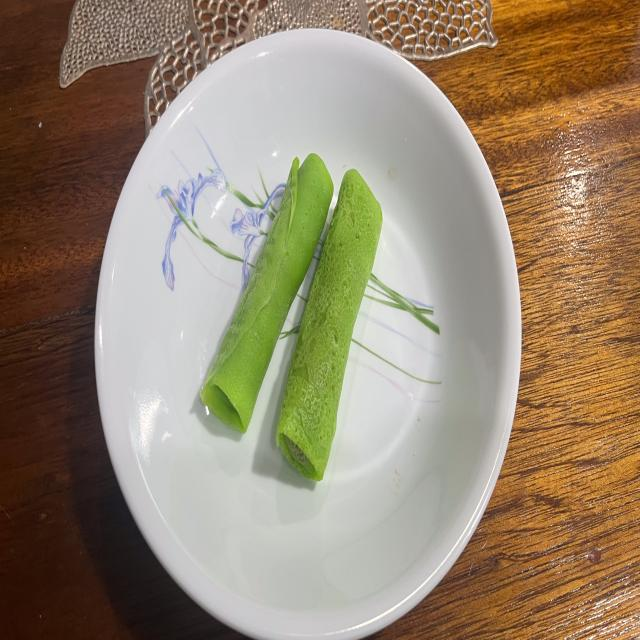Kuih-Ketayap: (200, 153, 334, 433), (276, 169, 382, 480)
